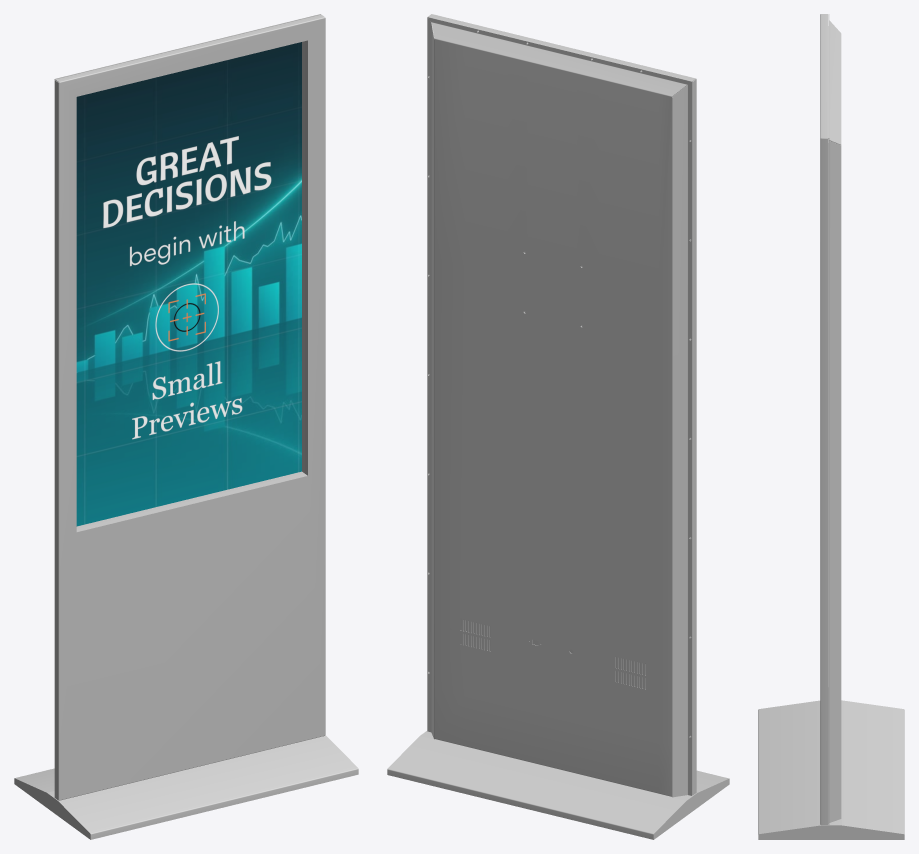
3 renders of one model, left to right at view 1: azimuth 30°, elevation 25°; view 2: azimuth 150°, elevation 25°; view 3: azimuth 270°, elevation 25°, orthographic. The views are drawn at different scales.
Parts seen in each view (by area): view 1: 50 Inch Totem - Assy.001; view 2: 50 Inch Totem - Assy.001; view 3: 50 Inch Totem - Assy.001.
Boxes of the visible parts, x1,y1,x2,y2 form: 50 Inch Totem - Assy.001: (14, 14, 358, 839); 50 Inch Totem - Assy.001: (387, 14, 729, 839); 50 Inch Totem - Assy.001: (758, 14, 904, 839).
Bounding box in the file's own units: 0.7024 × 1.84 × 0.347.
Materials: 4 (1 with a texture image).
